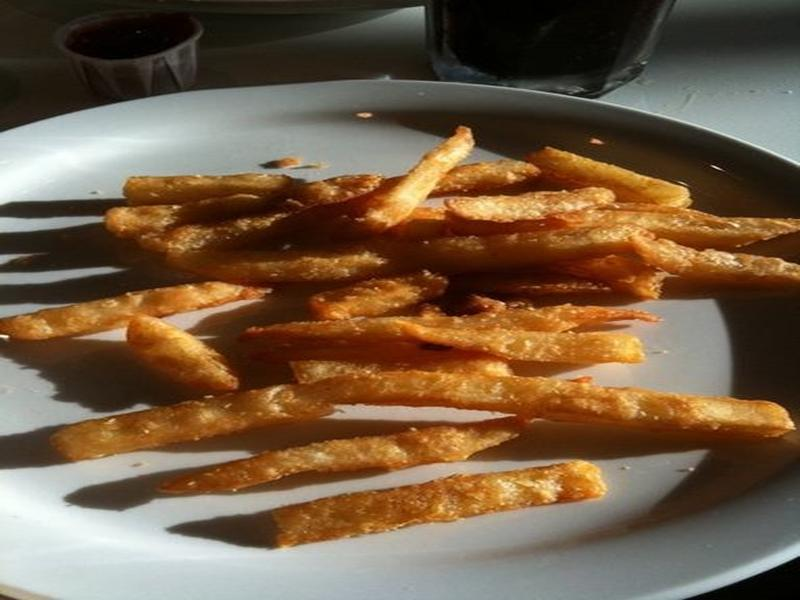french_fries: (41, 105, 800, 559)
